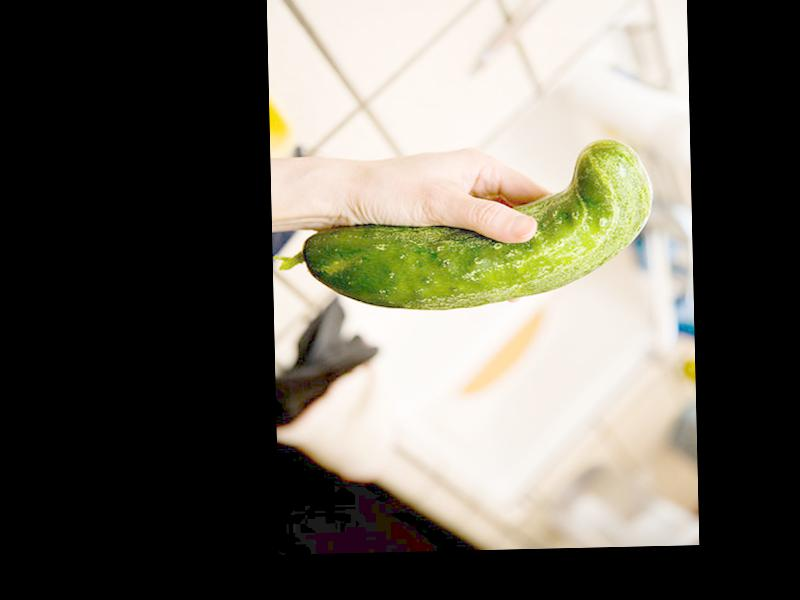Cucumber: (276, 139, 655, 314)
